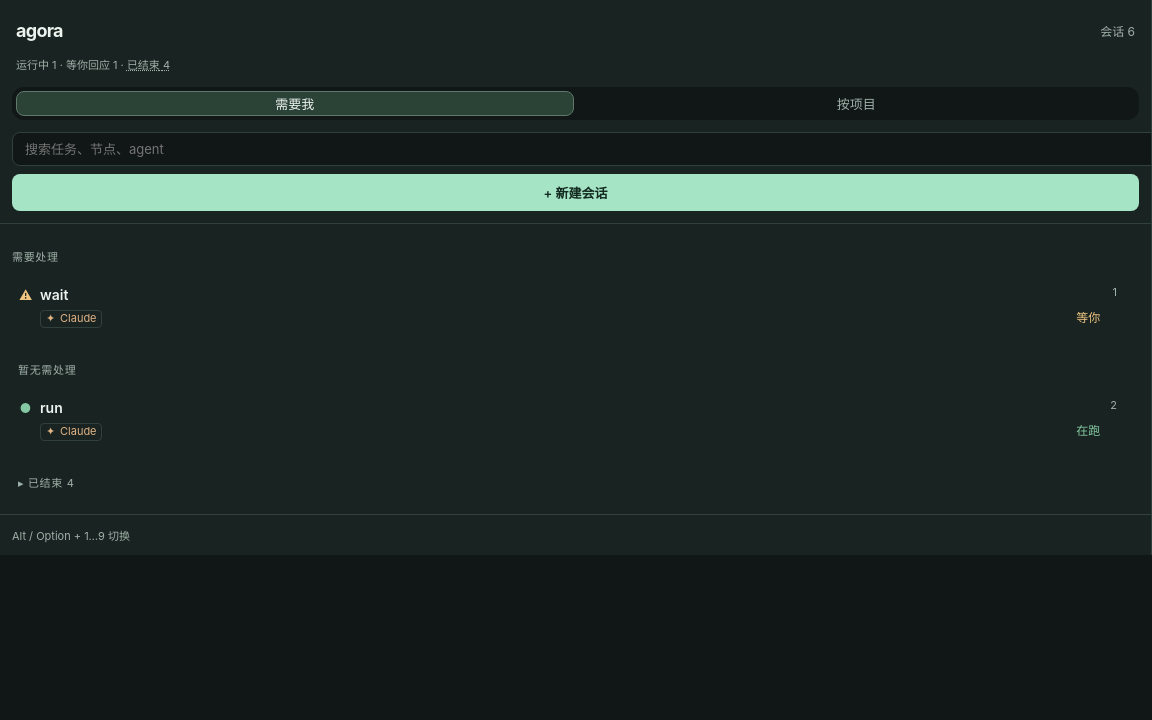
Test: the Finished count clears the collapsed section after confirmation: one DELETE per folded row, unseen agora rows and stale peer rows untouched (agora-j4w.2)
Expected: the element with test id "counts" reads "运行中 1 · 等你回应 1 · 已结束 4", [16, 57, 170, 75]
What coordinates should you click on to do the following:
click the button with test id "clear-finished"
I would click on:
 (148, 66)
Its box is [127, 57, 170, 75].
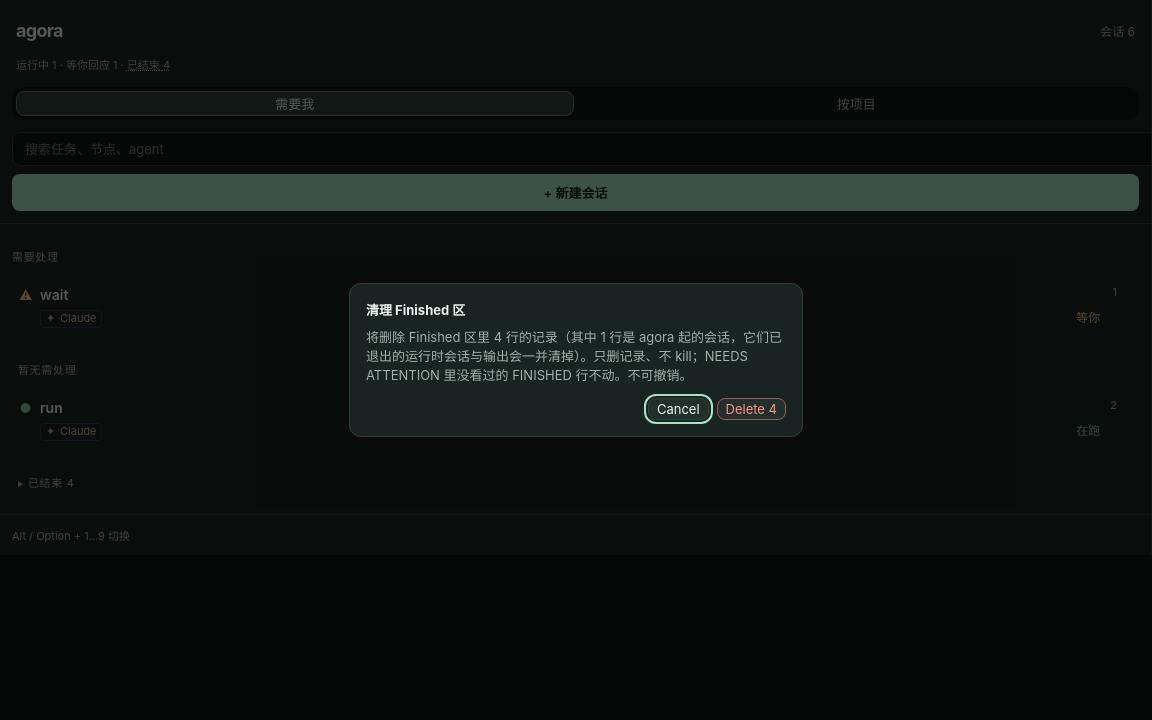
Expected: the dialog shows "4 行", [349, 283, 803, 437]
Expected: the dialog shows "其中 1 行是 agora 起的会话", [366, 329, 782, 383]
What coordinates should you click on to do the following:
click the button "Cancel"
I would click on:
 (678, 409)
Its box is [648, 398, 708, 420].
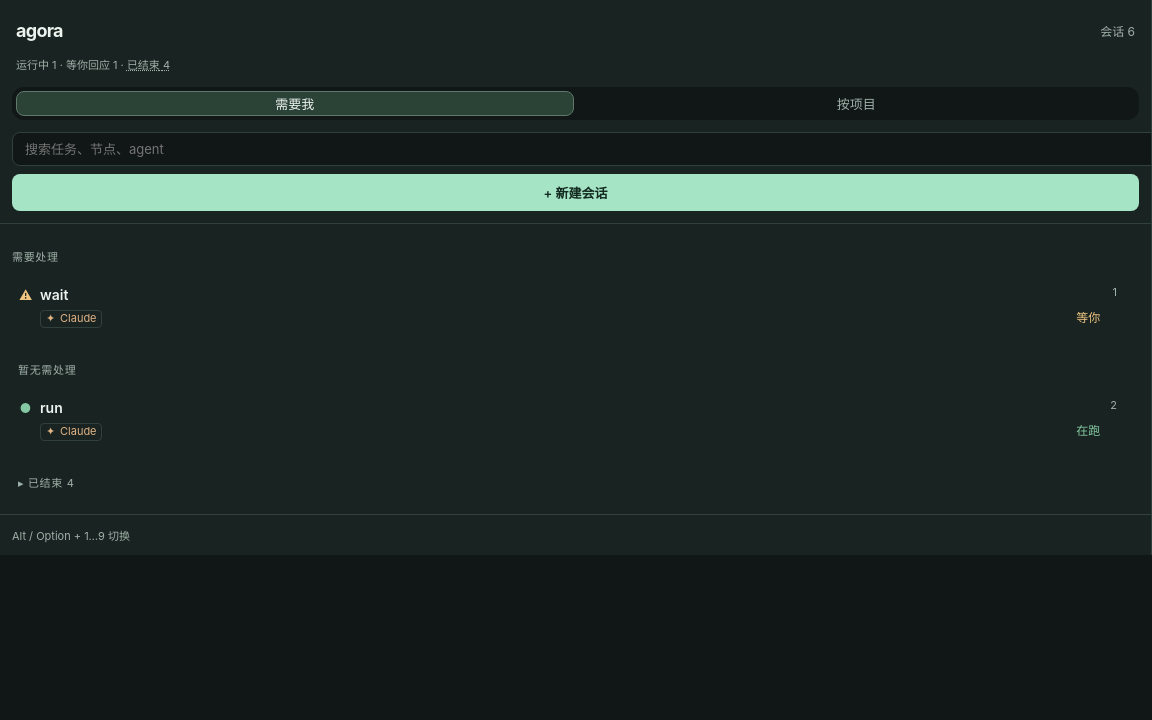
Expected: the dialog is gone
What coordinates should you click on to do the following:
click the button with test id "clear-finished"
I would click on:
 (148, 66)
Its box is [127, 57, 170, 75].
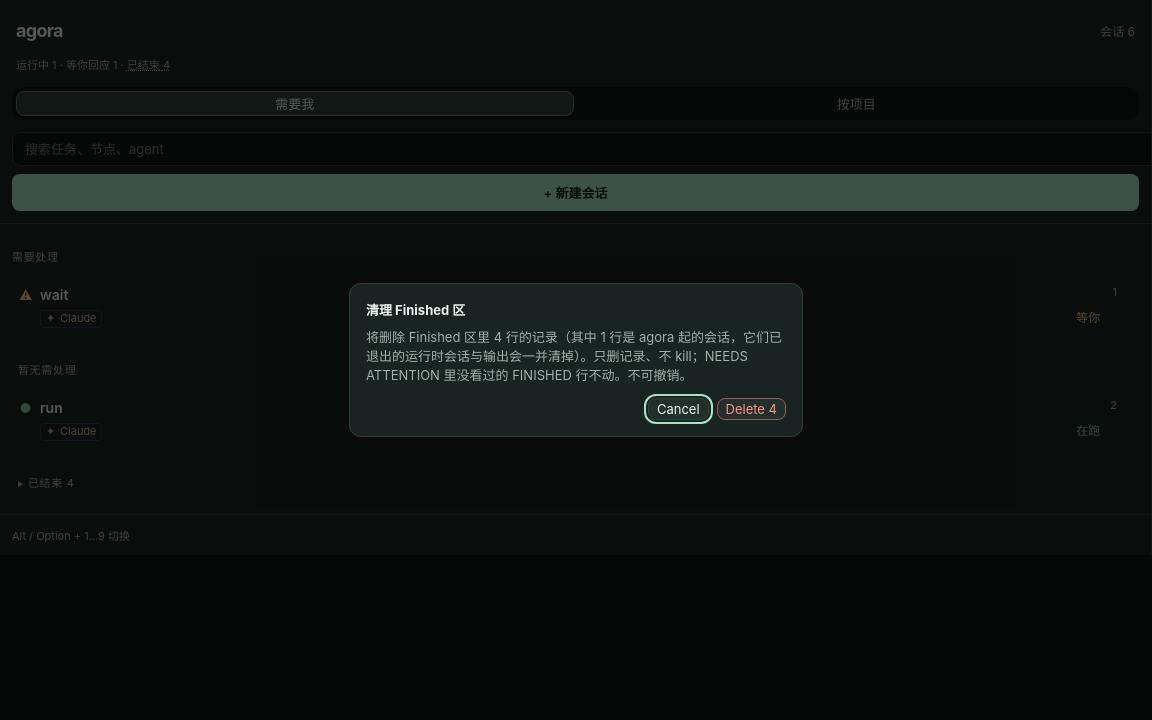
What coordinates should you click on to do the following:
click the button "Delete 4"
I would click on:
 (751, 409)
Its box is [716, 398, 786, 420].
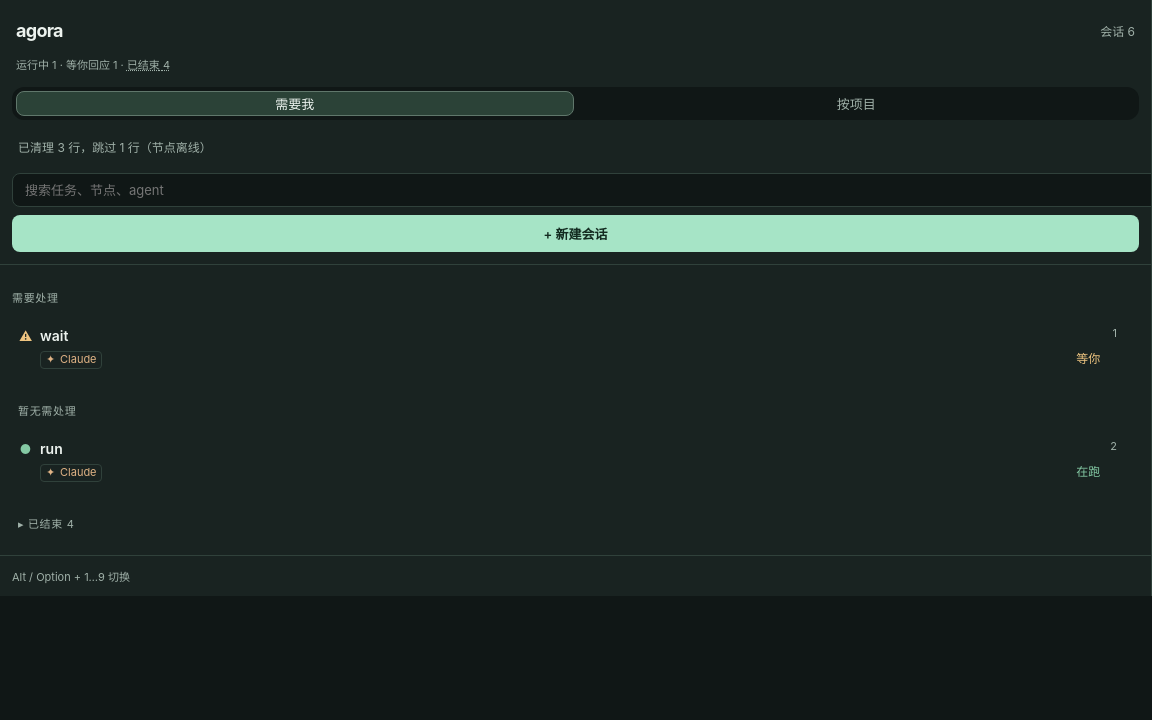
Expected: the message with test id "clear-finished-note" reads "已清理 3 行，跳过 1 行（节点离线）", [18, 140, 212, 155]
